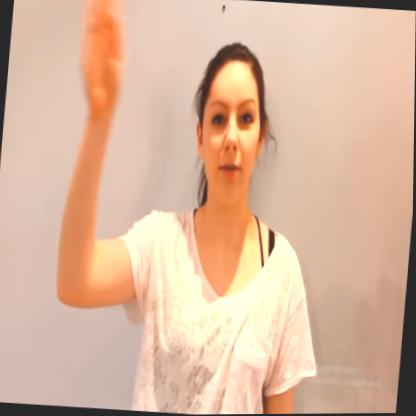Hello: (44, 0, 285, 325)
